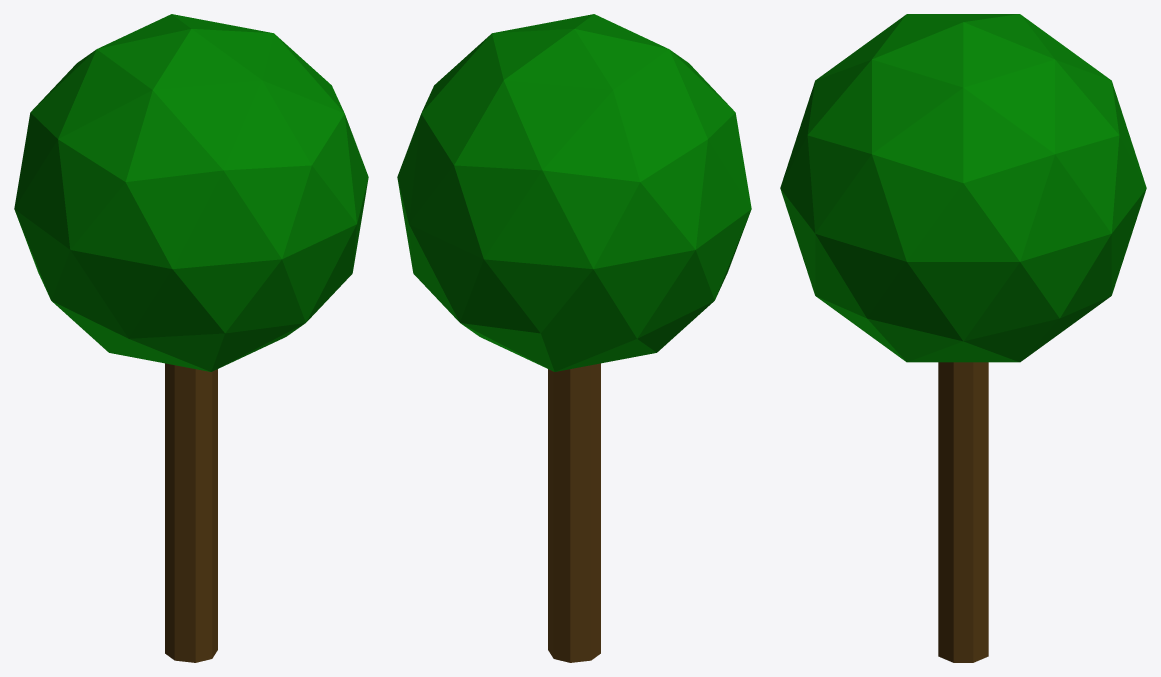
File: tree.glb
3 views of the same model, side by side, from view 1: azimuth 30°, elevation 25°; view 2: azimuth 150°, elevation 25°; view 3: azimuth 270°, elevation 25° (orthographic).
Parts seen in each view (by area): view 1: Icosphere, Cube; view 2: Icosphere, Cube; view 3: Icosphere, Cube.
Part boxes in pixels (x1,y1,x2,y2): Icosphere: (14,14,368,371); Cube: (165,363,217,662); Icosphere: (397,14,751,371); Cube: (548,363,600,662); Icosphere: (780,14,1146,362); Cube: (938,362,988,662).
Bounding box in the file's own units: 1.9 × 3.79 × 2.
